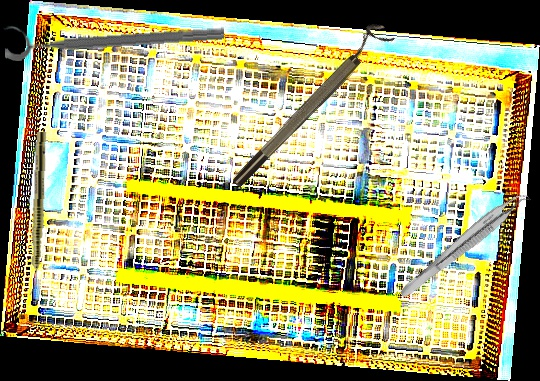Fixation Ring: (222, 17, 396, 192), (2, 9, 226, 62)
Handpiece: (28, 131, 47, 296)
Tissue Forceps: (397, 185, 533, 306)
